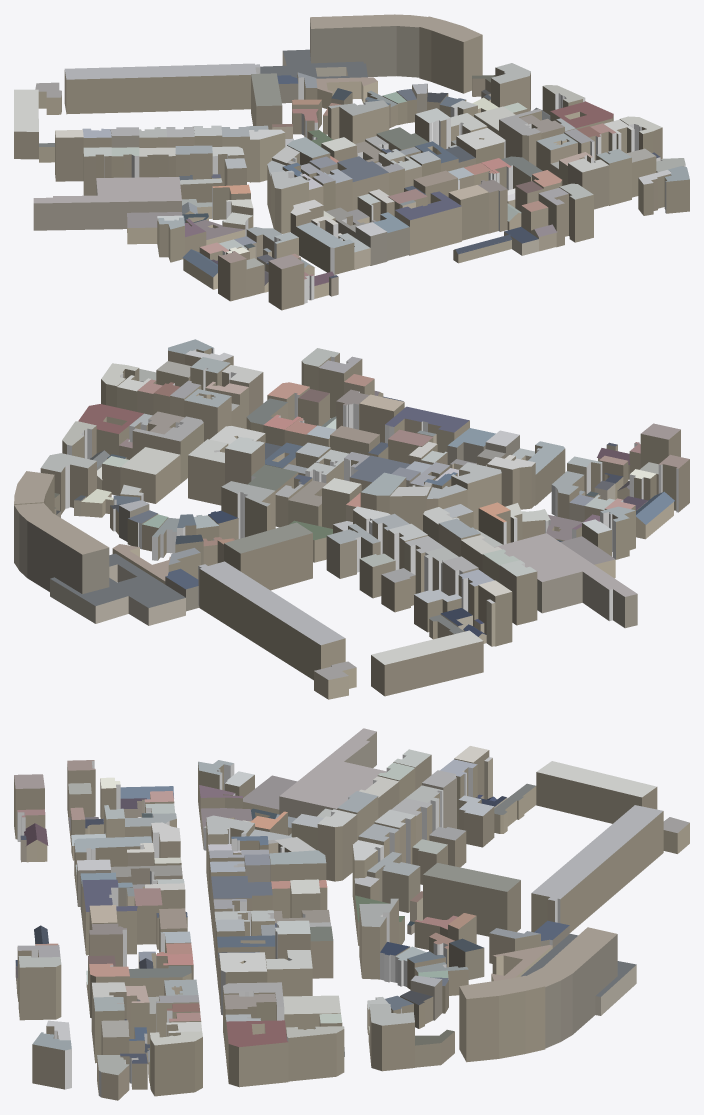
The picture shows the model from 3 angles, top to bottom: view 1: azimuth 30°, elevation 25°; view 2: azimuth 150°, elevation 25°; view 3: azimuth 270°, elevation 25°; orthographic projection. The views are drawn at different scales.
Visible parts, largest first — view 1: tuile; view 2: tuile; view 3: tuile.
Boxes of the visible parts, x1,y1,x2,y2 form: tuile: (14, 14, 689, 310); tuile: (14, 339, 689, 699); tuile: (14, 728, 689, 1100).
Bounding box in the file's own units: 297 × 28.22 × 258.
